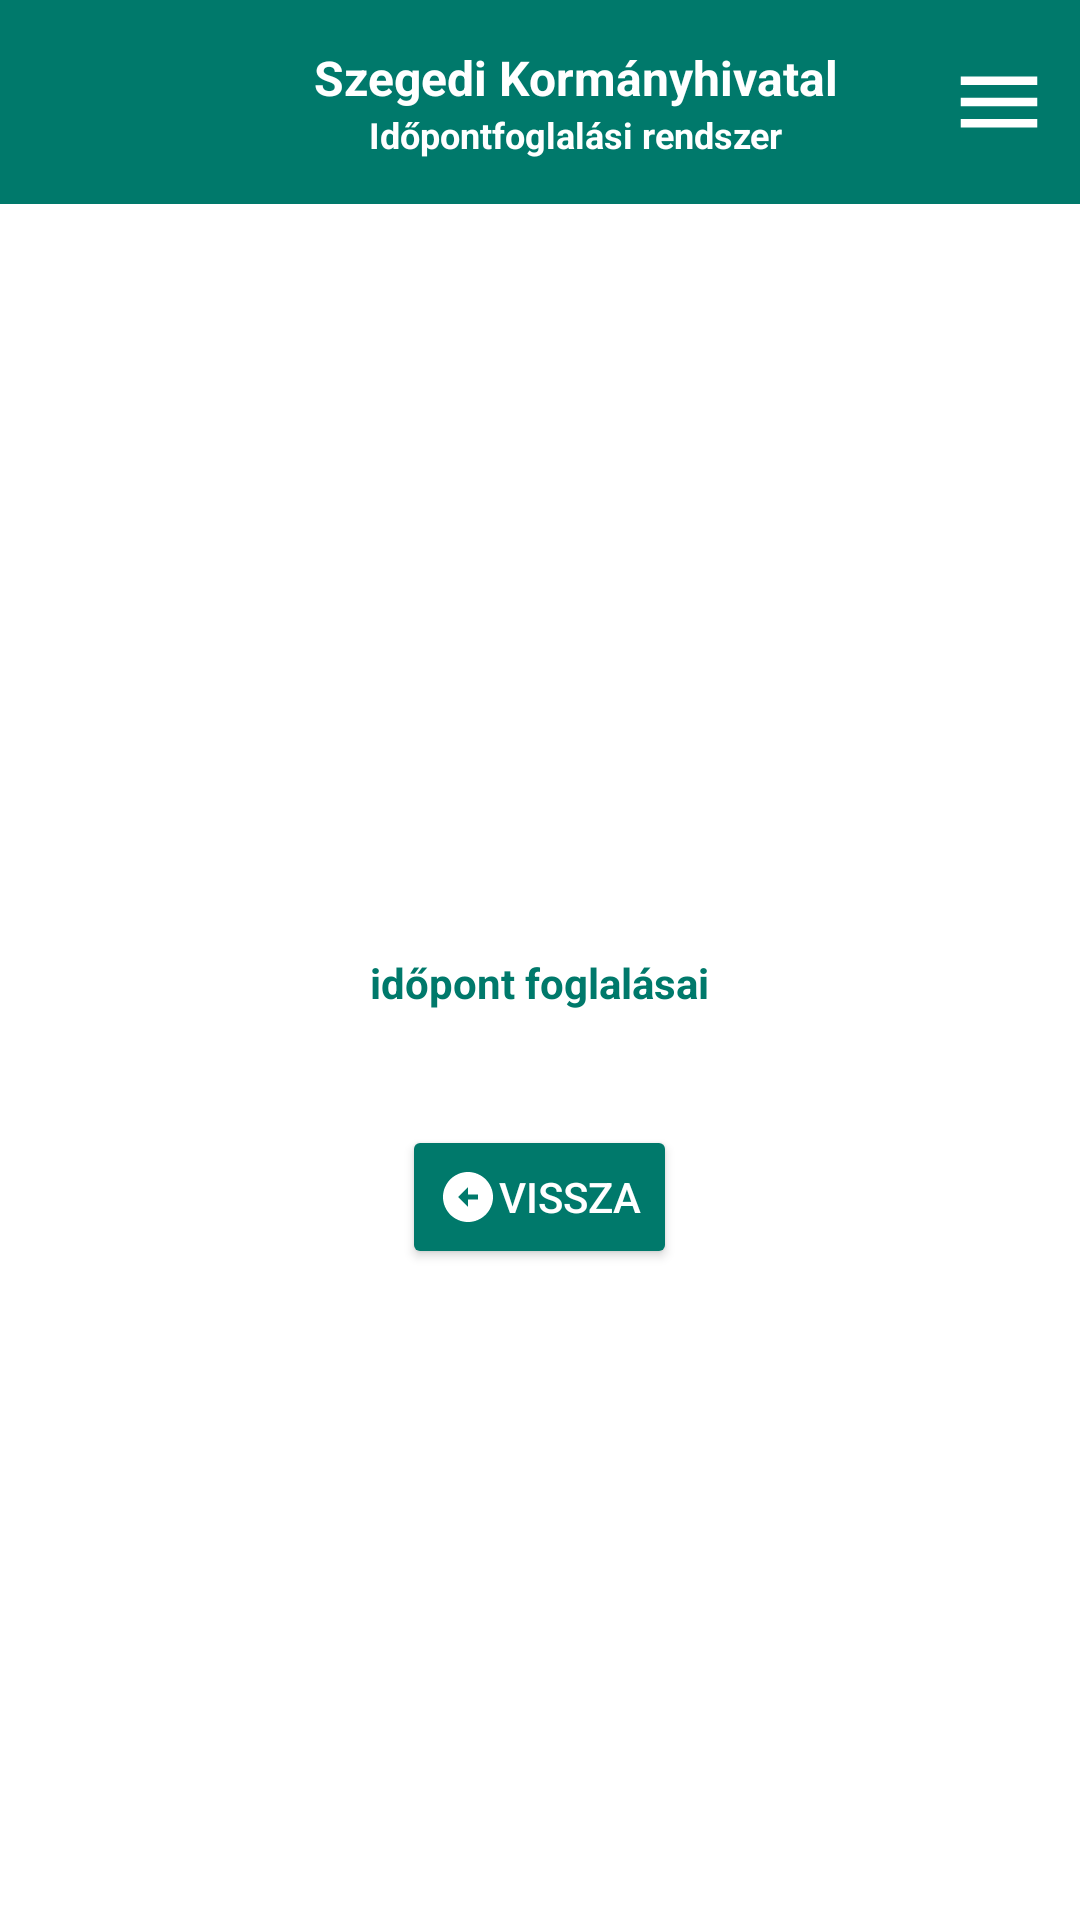

Named icons in this screenshot (1080px x 1920px) and their bounding boxes, (x1, y1, x2, y2):
Menű: (960, 76, 1038, 128)
